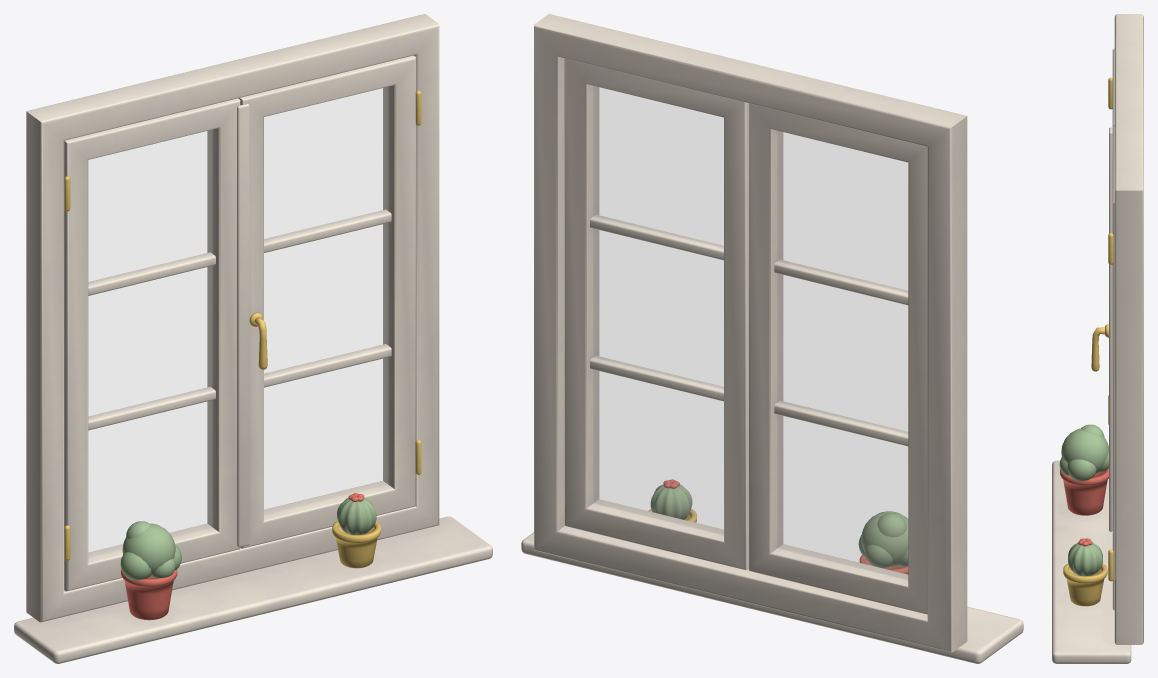
File: double_casement_window.glb
3 views of the same model, side by side, from view 1: azimuth 30°, elevation 25°; view 2: azimuth 150°, elevation 25°; view 3: azimuth 270°, elevation 25° (orthographic). The views are drawn at different scales.
Visible parts, largest first — view 1: window_body, window_sash_r_glass, window_sash_l_glass, window_sash_r, window_sash_l; view 2: window_body, window_sash_r_glass, window_sash_l_glass, window_sash_r, window_sash_l; view 3: window_body, window_sash_r, window_sash_l.
Boxes of the visible parts, <box> form: window_body: <box>14,14,492,663</box>; window_sash_r_glass: <box>264,87,387,514</box>; window_sash_l_glass: <box>88,130,212,557</box>; window_sash_r: <box>237,55,421,548</box>; window_sash_l: <box>64,98,240,591</box>; window_body: <box>521,14,1023,663</box>; window_sash_r_glass: <box>594,86,723,534</box>; window_sash_l_glass: <box>778,131,907,579</box>; window_sash_r: <box>564,58,748,570</box>; window_sash_l: <box>749,103,927,614</box>; window_body: <box>1052,14,1143,663</box>; window_sash_r: <box>1091,126,1114,610</box>; window_sash_l: <box>1108,48,1114,424</box>.
Size of the model in its own units: 1.1 by 1.23 by 0.22.
Materials: 4 (3 with a texture image).
